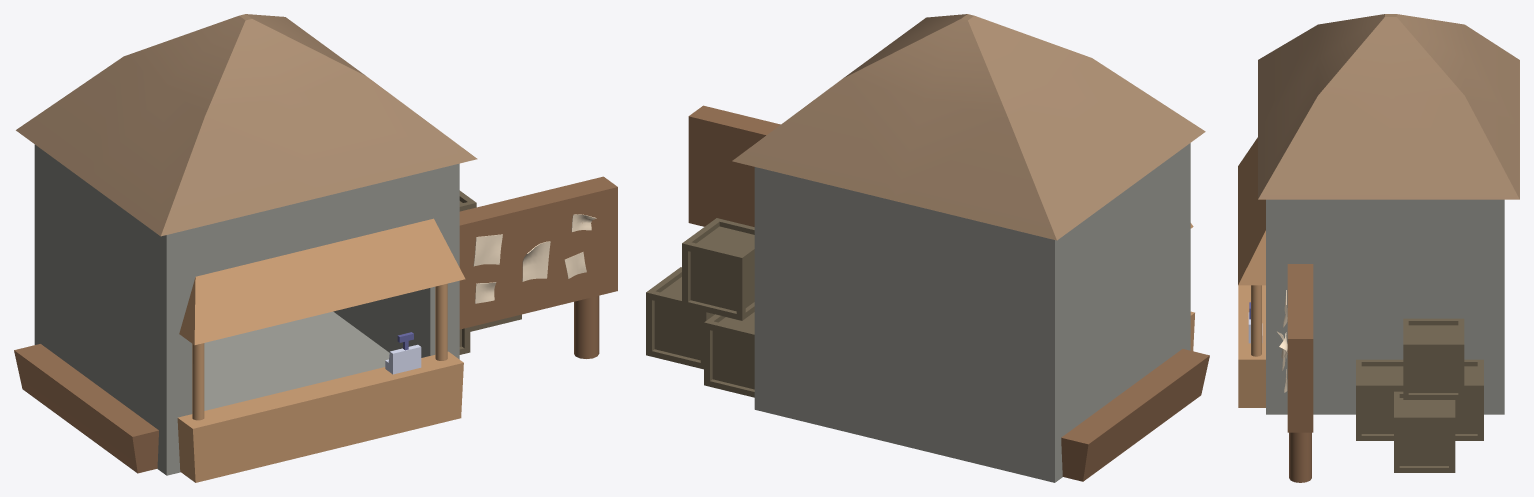
Rendered from new_fishstand.fbx.
3 renders of one model, left to right at view 1: azimuth 30°, elevation 25°; view 2: azimuth 150°, elevation 25°; view 3: azimuth 270°, elevation 25°, orthographic. The views are drawn at different scales.
Visible parts, largest first — view 1: fishstand_walls, roof, countertop, countertop_cover, notice_board, flowerpot, pCylinder1, countertop_bar1, countertop_bar, notice2, cash_register, notice; view 2: fishstand_walls, roof, flowerpot, notice_board, box3, box2, box1; view 3: roof, fishstand_walls, box3, box2, notice_board, box, countertop_cover, countertop, box1, pCylinder1, countertop_bar.
Boxes of the visible parts, x1,y1,x2,y2 form: fishstand_walls: (34,144,459,475); roof: (16,14,477,236); countertop: (177,351,463,482); countertop_cover: (179,218,465,345); notice_board: (459,176,617,329); flowerpot: (14,344,158,473); pCylinder1: (574,295,599,358); countertop_bar1: (192,343,204,420); countertop_bar: (435,283,447,360); notice2: (522,241,550,281); cash_register: (385,344,421,374); notice: (473,234,502,266); fishstand_walls: (754,143,1190,482); roof: (732,14,1205,240); flowerpot: (1061,349,1209,481); notice_board: (688,105,780,226); box3: (682,218,754,320); box2: (646,267,714,369); box1: (704,312,754,397); roof: (1258,14,1519,199); fishstand_walls: (1266,199,1504,414); box3: (1403,318,1464,399); box2: (1394,391,1455,472); notice_board: (1287,264,1313,432); box: (1356,359,1403,440); countertop_cover: (1238,137,1265,285); countertop: (1238,285,1265,407); box1: (1455,359,1483,440); pCylinder1: (1289,432,1311,482); countertop_bar: (1251,285,1261,356).
Size of the model in its own units: 18.36 by 13.32 by 10.14.
